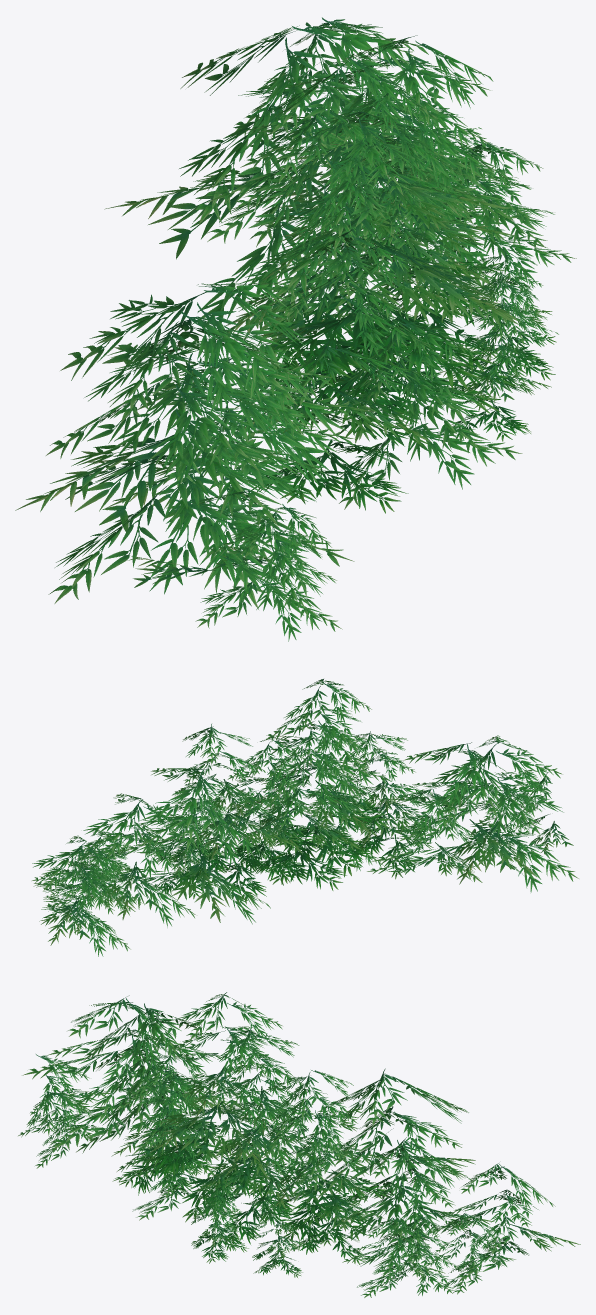
Rendered from Area_13_7.fbx.
3 views of the same model, one above another, from view 1: azimuth 30°, elevation 25°; view 2: azimuth 150°, elevation 25°; view 3: azimuth 270°, elevation 25° (orthographic). The views are drawn at different scales.
Parts seen in each view (by area): view 1: Area_13_7; view 2: Area_13_7; view 3: Area_13_7.
Part boxes in pixels (x1,y1,x2,y2): Area_13_7: (15, 17, 576, 641); Area_13_7: (32, 679, 578, 956); Area_13_7: (18, 992, 580, 1297).
Bounding box in the file's own units: 3508 × 1803 × 4038.
